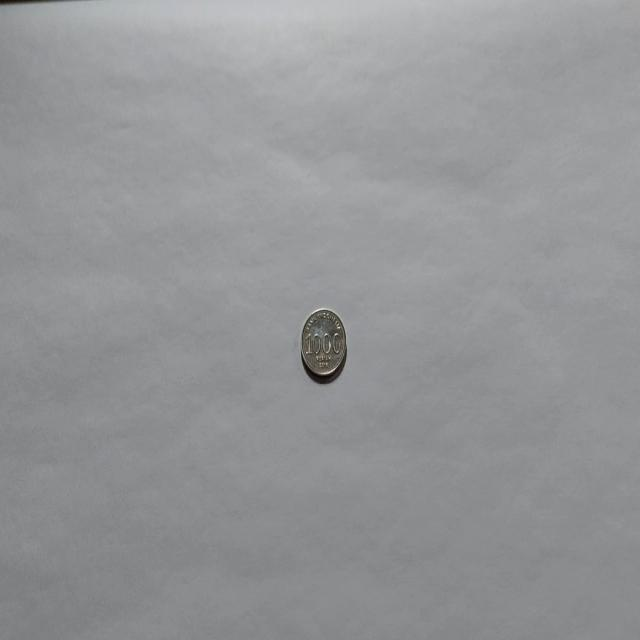seribu rupiah koin: (299, 306, 347, 380)
